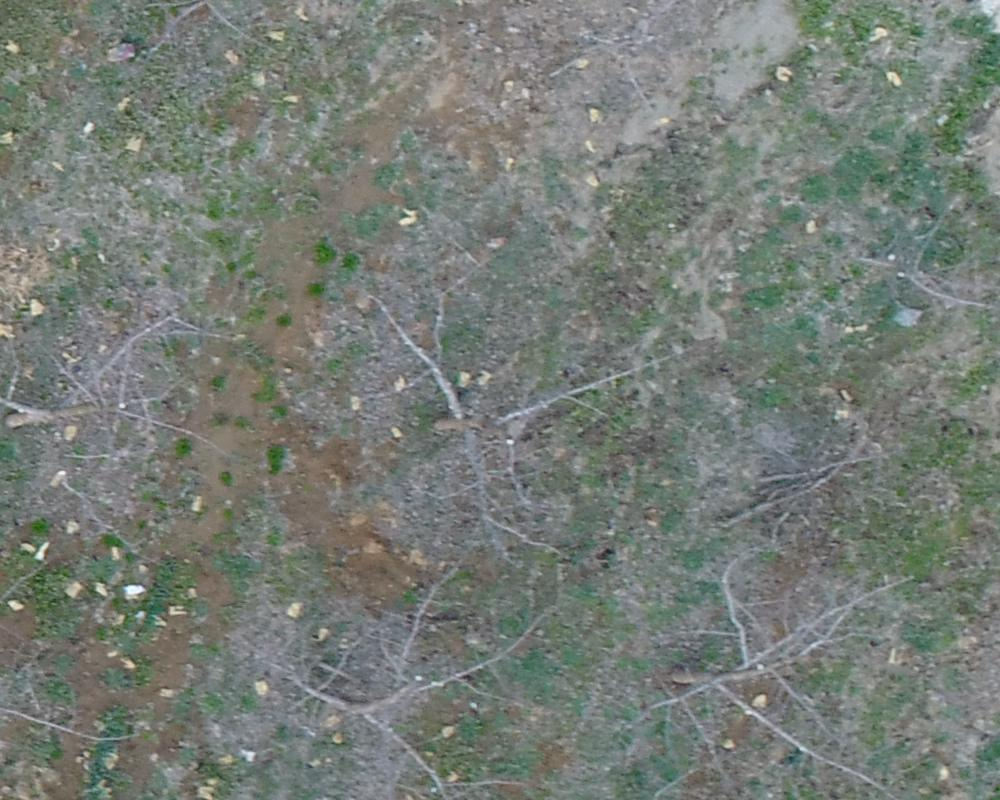apple: (607, 537, 957, 790), (351, 284, 625, 587), (197, 573, 549, 790), (10, 288, 244, 535), (125, 10, 337, 88)
